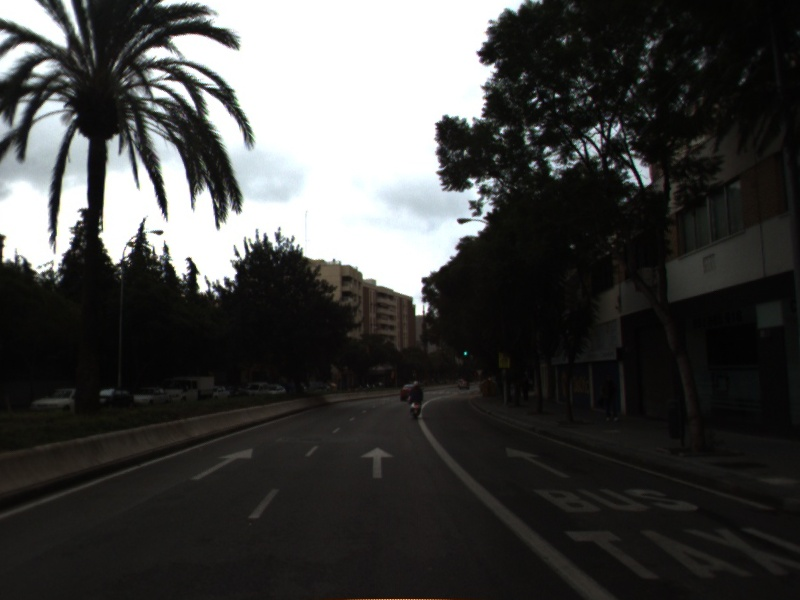STRAIGHT: (188, 446, 256, 482), (503, 445, 572, 480), (358, 445, 396, 480)
